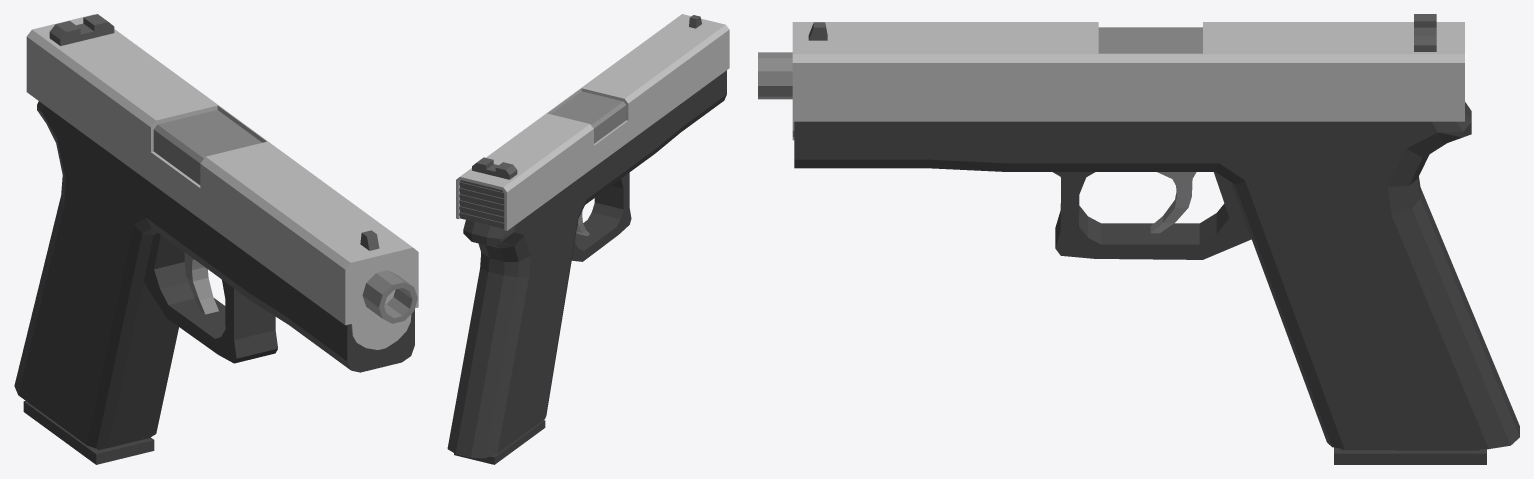
File: gun_g17.glb
3 renders of one model, left to right at view 1: azimuth 30°, elevation 25°; view 2: azimuth 150°, elevation 25°; view 3: azimuth 270°, elevation 25°, orthographic. The views are drawn at different scales.
Parts seen in each view (by area): view 1: pistol_02_0, Slide_0, Magazin_0, Trigger_0; view 2: pistol_02_0, Slide_0, Magazin_0; view 3: pistol_02_0, Slide_0, Magazin_0, Trigger_0.
Part boxes in pixels (x1,y1,x2,y2): pistol_02_0: [14, 101, 414, 448]; Slide_0: [26, 14, 418, 349]; Magazin_0: [23, 401, 154, 464]; Trigger_0: [184, 252, 218, 314]; pistol_02_0: [447, 70, 726, 458]; Slide_0: [456, 14, 729, 230]; Magazin_0: [454, 420, 545, 464]; pistol_02_0: [794, 27, 1519, 449]; Slide_0: [758, 14, 1464, 140]; Magazin_0: [1334, 447, 1486, 464]; Trigger_0: [1150, 172, 1196, 233].
Bounding box in the file's own units: 0.0269 × 0.1415 × 0.2299.
1 material, 1 textured.
